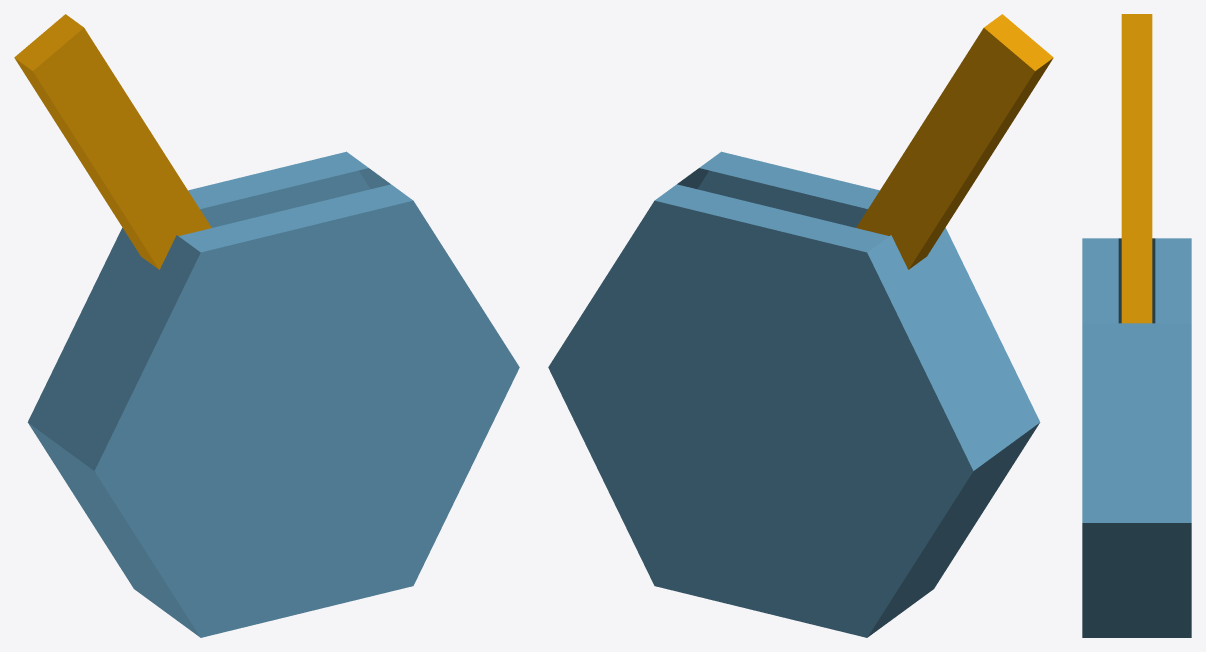
The model's file is switch_40.fbx.
3 renders of one model, left to right at view 1: azimuth 30°, elevation 25°; view 2: azimuth 150°, elevation 25°; view 3: azimuth 270°, elevation 25°, orthographic. The views are drawn at different scales.
Visible parts, largest first — view 1: shell, handle; view 2: shell, handle; view 3: shell, handle.
Part boxes in pixels (box(x1,y1,x2,y2)): shell: box(27, 151, 519, 637); handle: box(14, 14, 211, 269); shell: box(548, 151, 1040, 637); handle: box(856, 14, 1053, 269); shell: box(1082, 238, 1191, 637); handle: box(1121, 14, 1152, 323).
Size of the model in its own units: 48.29 by 61.34 by 12.08.
